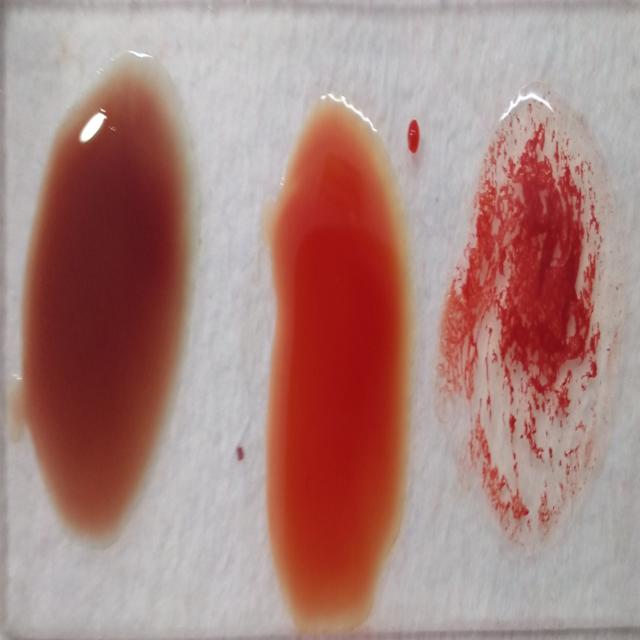D: (458, 97, 611, 534)
